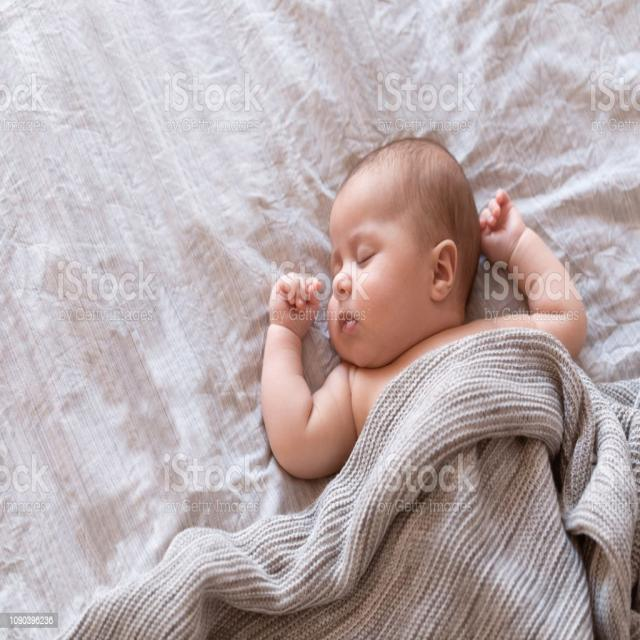non-dog: (259, 130, 587, 481)
